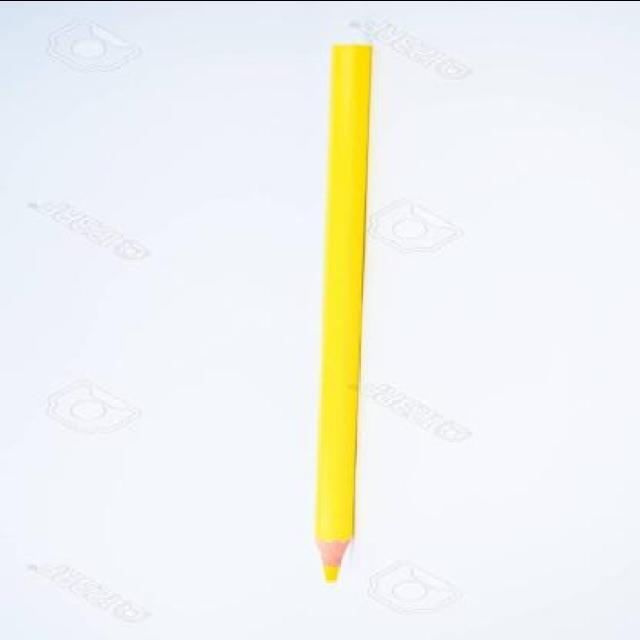Pencil: (308, 482, 364, 586)
